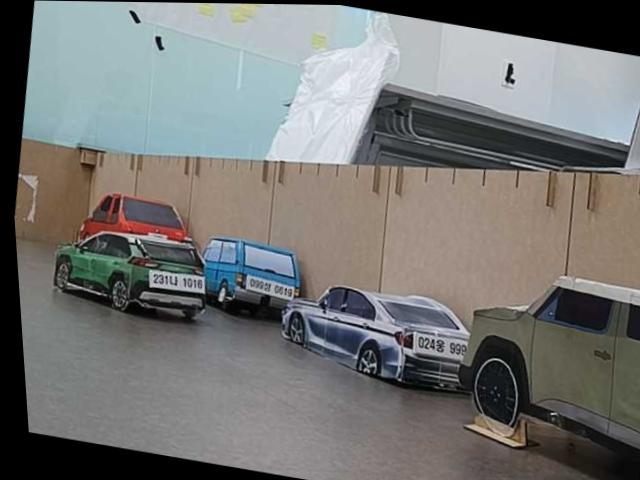car: (443, 258, 640, 464), (272, 273, 480, 395), (47, 220, 215, 325), (186, 233, 310, 323), (76, 185, 203, 263)
id: (411, 332, 474, 361), (148, 269, 206, 293), (245, 275, 296, 302)
